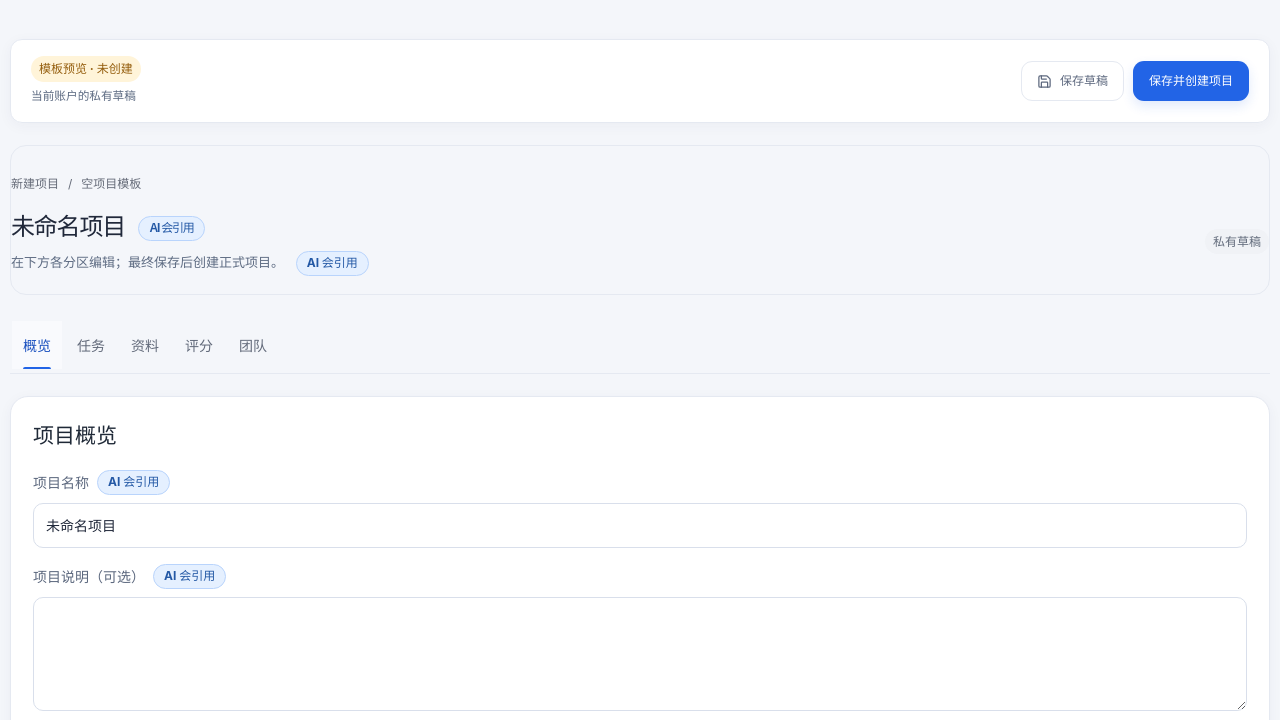
Test: keeps unsaved inputs when leaving the draft is canceled
The width and height of the screenshot is (1280, 720).
Expected: the text "模板预览 · 未创建" is shown, [31, 56, 141, 82]
Step 1. Replace the text in the field labelled "项目名称" with "保留草稿编辑" → (640, 525), box [33, 503, 1247, 548]
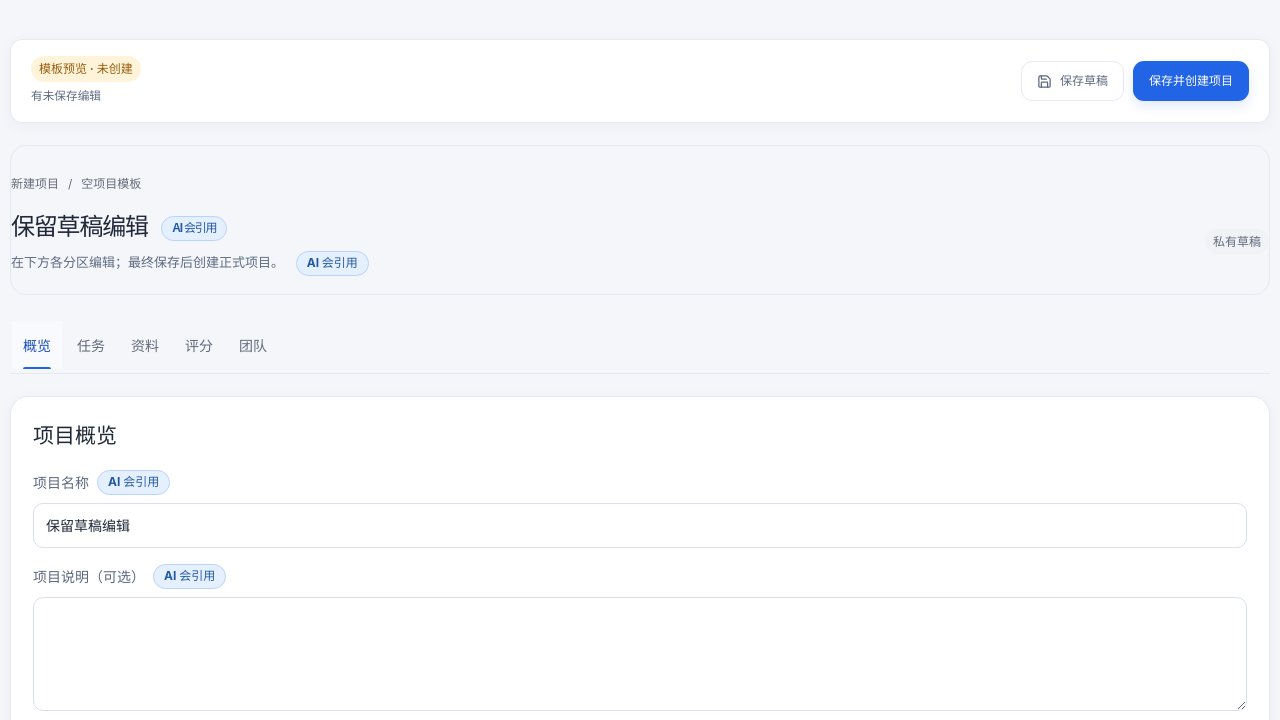
Step 2. Click the link "新建项目" → (35, 184), box [11, 174, 59, 194]
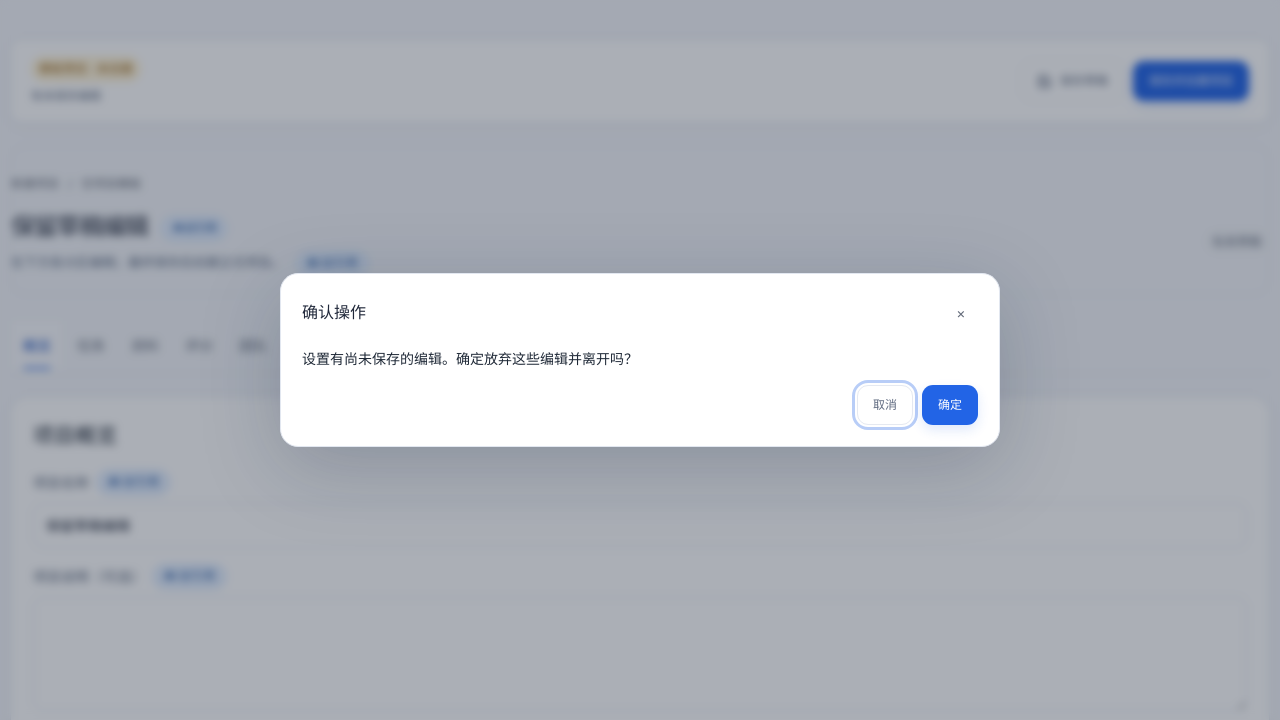
Step 3. Click the button "取消" → (885, 404), box [857, 384, 913, 424]
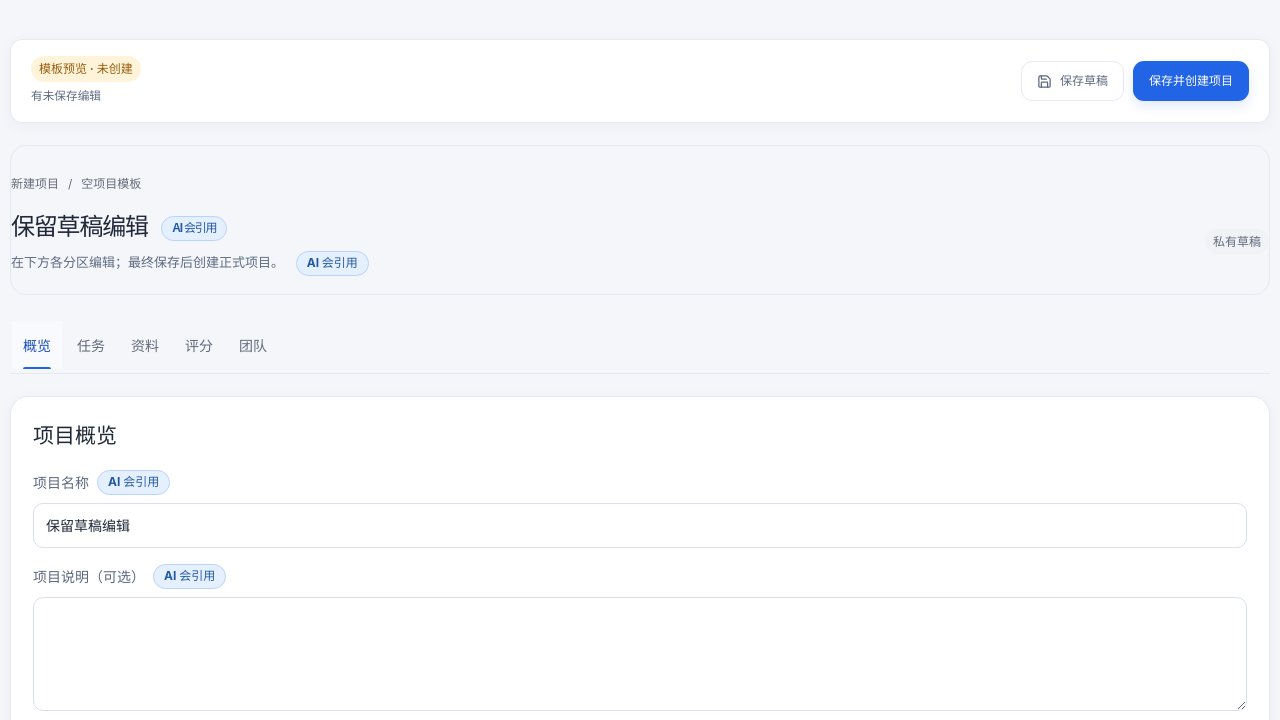
Expected: the dialog is gone
